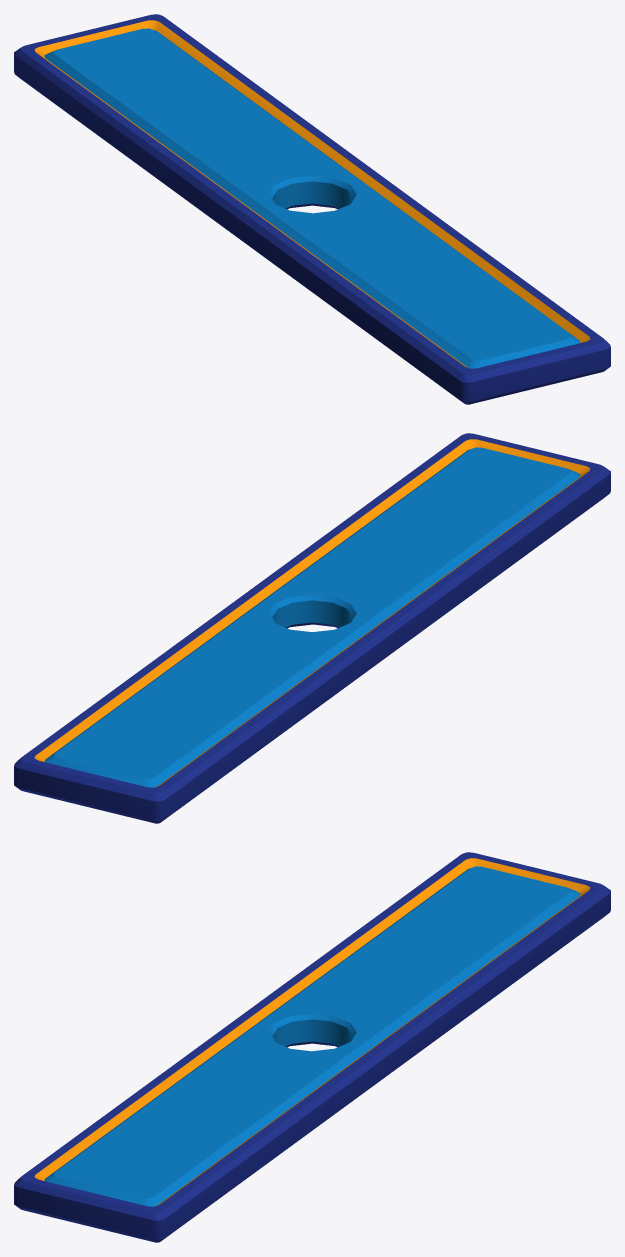
Rendered from obstacle_11_002.fbx.
3 renders of one model, top to bottom at view 1: azimuth 30°, elevation 25°; view 2: azimuth 150°, elevation 25°; view 3: azimuth 330°, elevation 25°, orthographic.
Parts seen in each view (by area): view 1: obstacle_11_002; view 2: obstacle_11_002; view 3: obstacle_11_002.
Boxes of the visible parts, x1=… form: obstacle_11_002: x1=14, y1=14, x2=610, y2=404; obstacle_11_002: x1=14, y1=433, x2=610, y2=823; obstacle_11_002: x1=14, y1=852, x2=610, y2=1242.
Size of the model in its own units: 198 by 1039 by 37.82.
